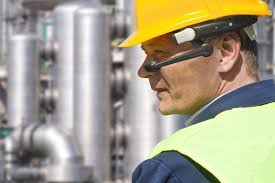Person_wearing_helmet: (116, 0, 270, 75)
